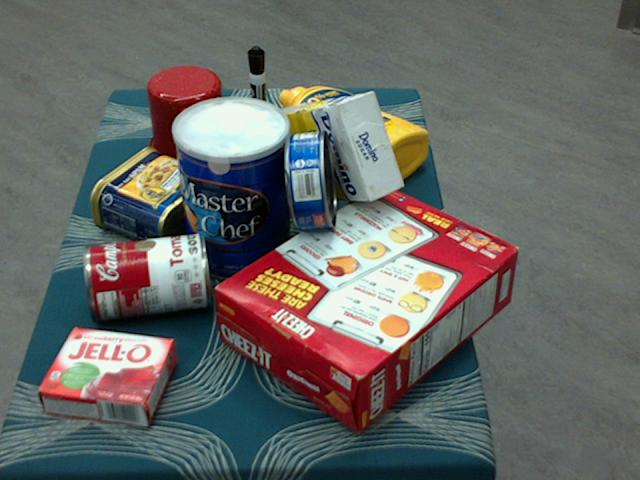cracker_box: (213, 182, 519, 431)
gelatin_box: (38, 325, 176, 426)
large_marker: (246, 45, 268, 149)
master_chef_can: (171, 98, 290, 284)
mug: (146, 66, 231, 167)
mustard_bottle: (277, 85, 427, 188)
potted_meat_can: (89, 147, 219, 249)
sugar_box: (261, 93, 402, 202)
tomato_soup_can: (82, 234, 208, 318)
tuna_fish_can: (285, 129, 336, 228)
